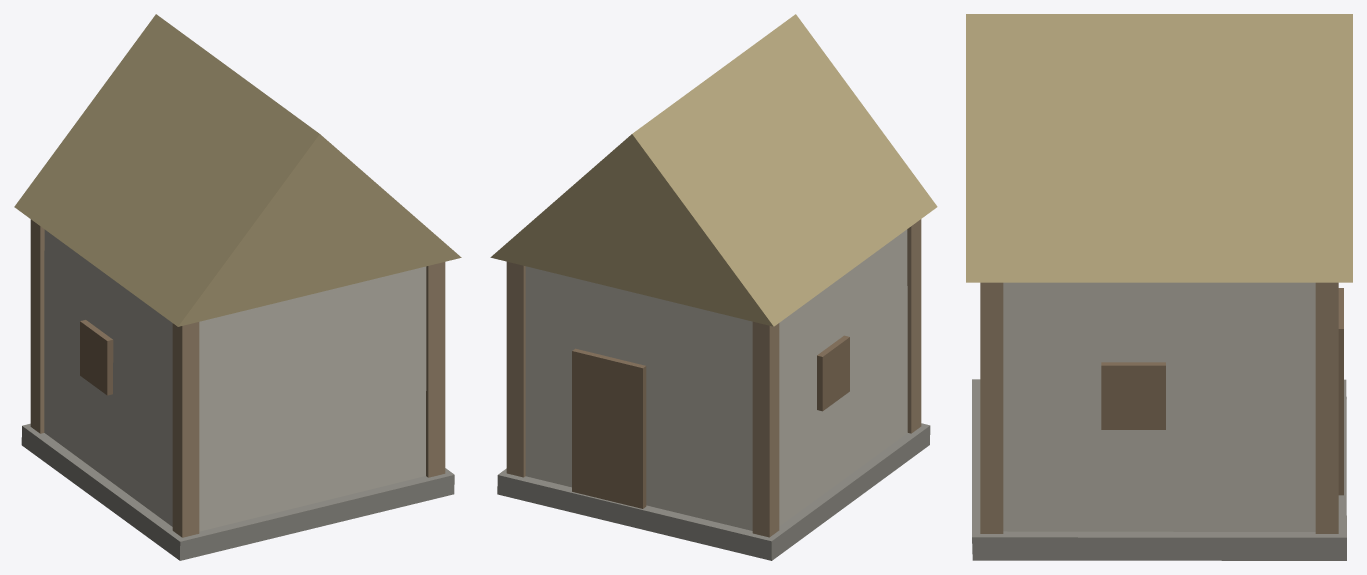
Rendered from generic_house_a.glb.
3 views of the same model, side by side, from view 1: azimuth 30°, elevation 25°; view 2: azimuth 150°, elevation 25°; view 3: azimuth 270°, elevation 25° (orthographic). The views are drawn at different scales.
Parts seen in each view (by area): view 1: generic_house_a; view 2: generic_house_a; view 3: generic_house_a.
Boxes of the visible parts, left/top/right/bottom form: generic_house_a: left=14, top=14, right=461, bottom=560; generic_house_a: left=490, top=14, right=937, bottom=560; generic_house_a: left=966, top=14, right=1352, bottom=560.
Bounding box in the file's own units: 3 × 4 × 3.
